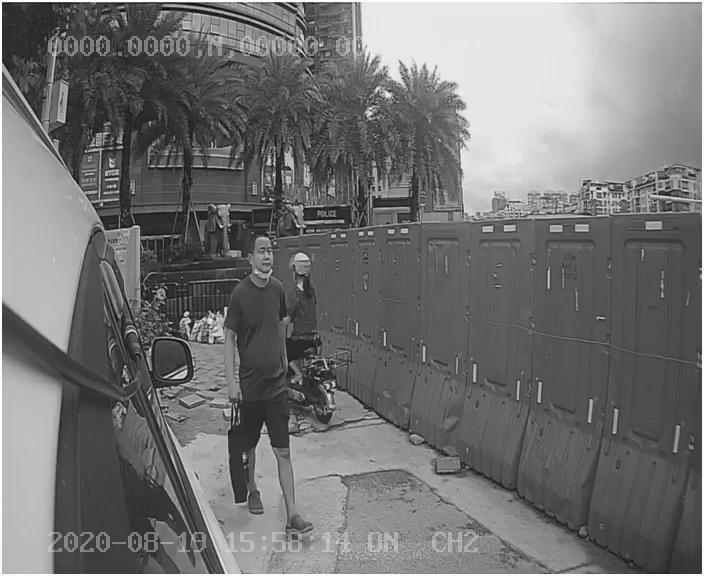person: (213, 236, 327, 534)
